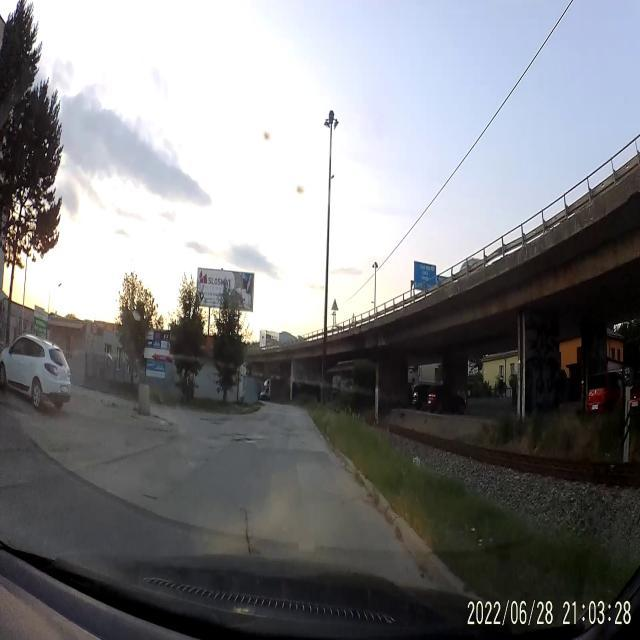Pothole: (241, 499, 258, 556), (199, 412, 233, 428), (231, 434, 265, 446), (139, 492, 163, 503), (220, 430, 232, 438)
